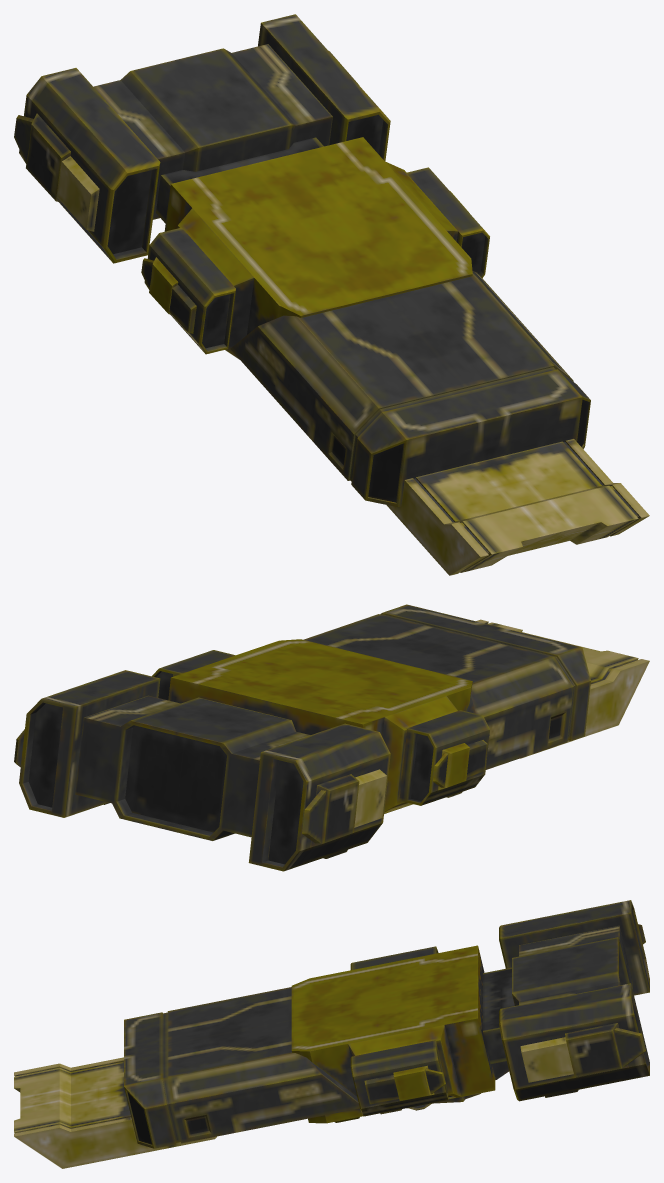
File: Imperial.fbx
The picture shows the model from 3 angles, top to bottom: view 1: azimuth 30°, elevation 25°; view 2: azimuth 150°, elevation 25°; view 3: azimuth 270°, elevation 25°; orthographic projection. The views are drawn at different scales.
Parts seen in each view (by area): view 1: Imperial; view 2: Imperial; view 3: Imperial.
Part boxes in pixels (x1,y1,x2,y2): Imperial: [14, 14, 649, 575]; Imperial: [14, 604, 649, 871]; Imperial: [14, 900, 649, 1168].
Bounding box in the file's own units: 209 × 162 × 496.
